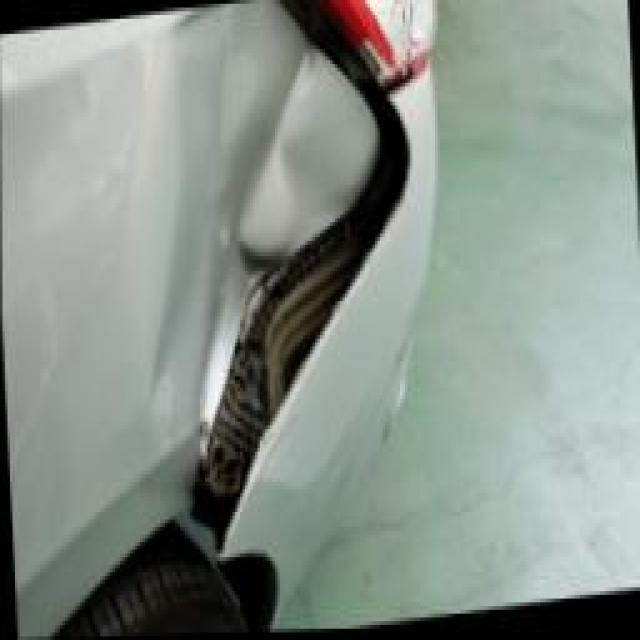Fender: (60, 0, 402, 544)
